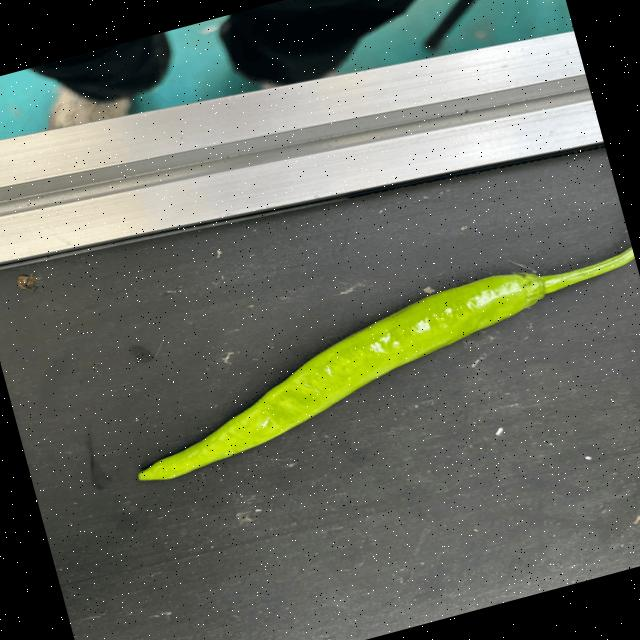chili: (135, 268, 548, 481)
